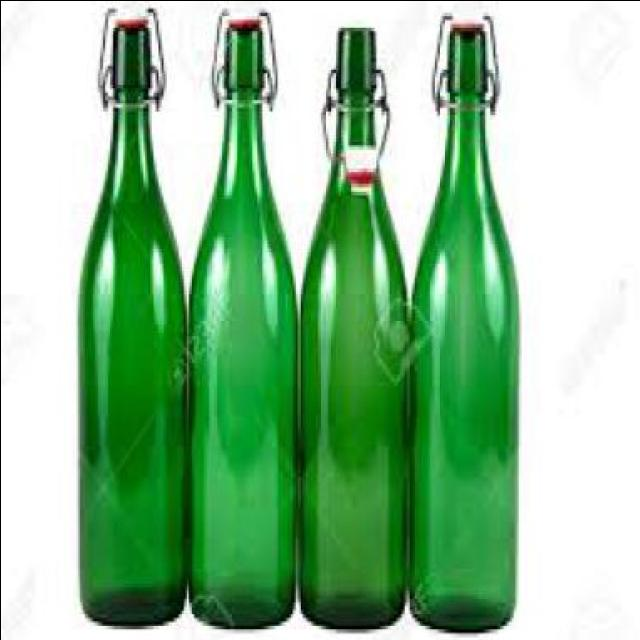kaca: (182, 3, 295, 625), (294, 24, 406, 628), (77, 4, 186, 622), (406, 9, 512, 628)
